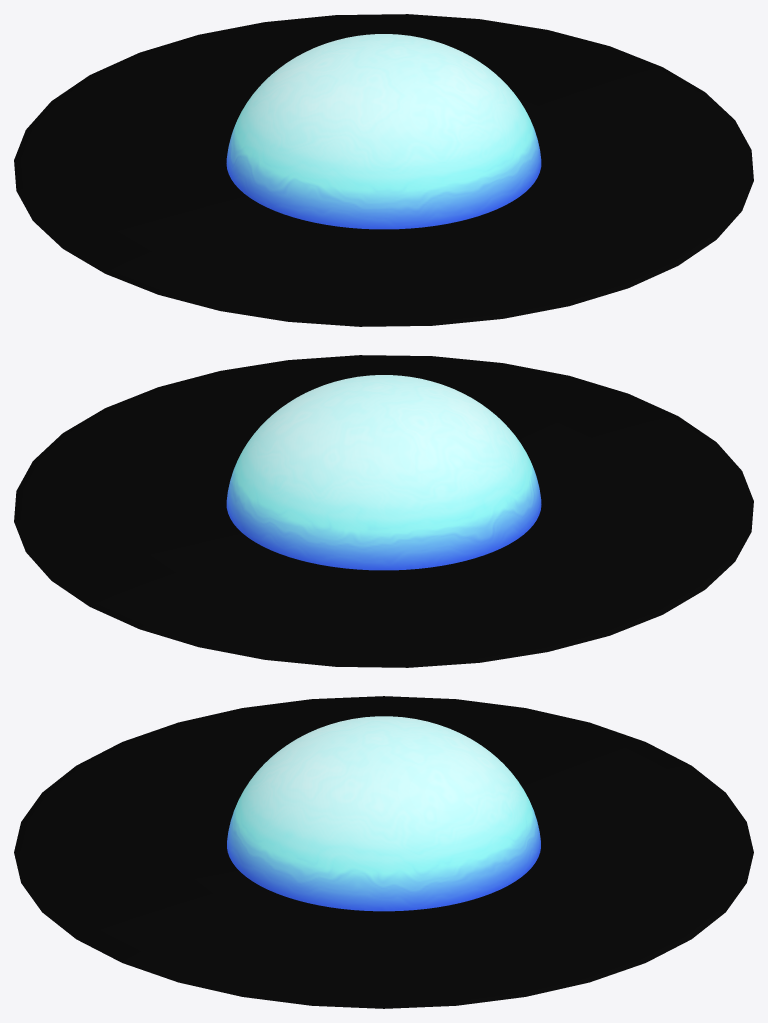
The model's file is bestartest1.glb.
3 renders of one model, top to bottom at view 1: azimuth 30°, elevation 25°; view 2: azimuth 150°, elevation 25°; view 3: azimuth 270°, elevation 25°, orthographic.
Parts seen in each view (by area): view 1: Sphere, Icosphere; view 2: Sphere, Icosphere; view 3: Sphere, Icosphere.
Boxes of the visible parts, x1=… form: Sphere: x1=14, y1=14, x2=753, y2=326; Icosphere: x1=226, y1=34, x2=541, y2=229; Sphere: x1=14, y1=355, x2=753, y2=667; Icosphere: x1=226, y1=375, x2=541, y2=570; Sphere: x1=14, y1=696, x2=753, y2=1008; Icosphere: x1=227, y1=716, x2=540, y2=911.
Bounding box in the file's own units: 5.64 × 2 × 5.64.
Materials: 2 (1 with a texture image).
